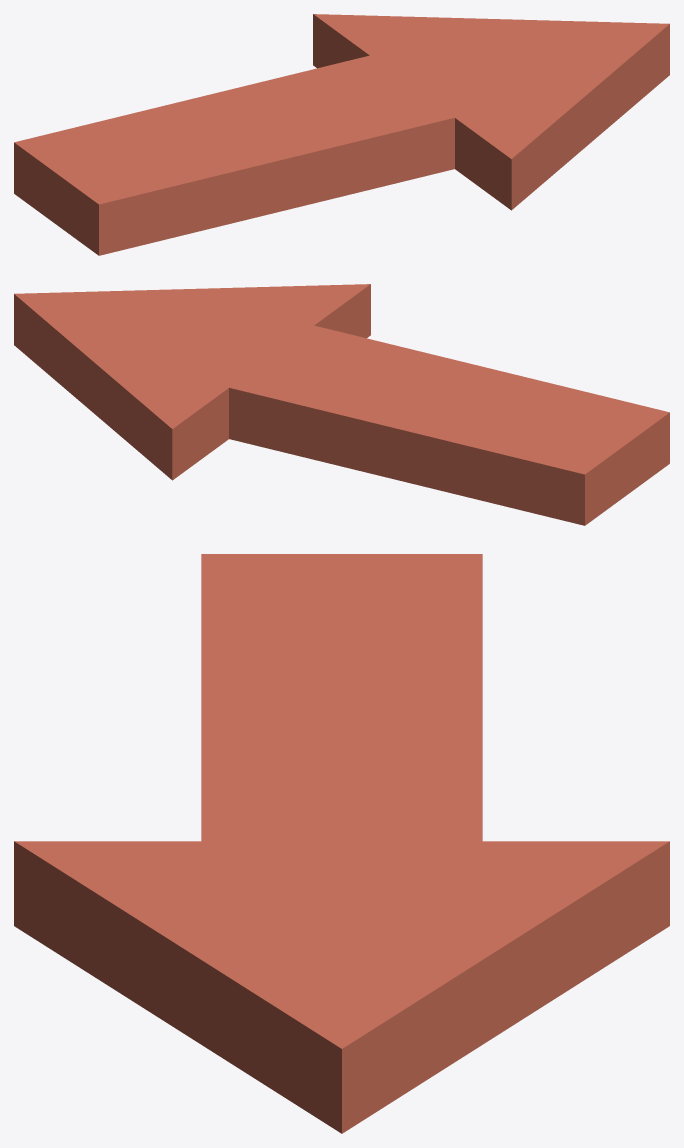
The model's file is tabletop-game-components-turn-arrow-ebae0e58__20876.glb.
The picture shows the model from 3 angles, top to bottom: view 1: azimuth 30°, elevation 25°; view 2: azimuth 150°, elevation 25°; view 3: azimuth 270°, elevation 25°; orthographic projection. The views are drawn at different scales.
Parts seen in each view (by area): view 1: turn-arrow; view 2: turn-arrow; view 3: turn-arrow.
Part boxes in pixels (x1,y1,x2,y2): turn-arrow: [14, 14, 669, 255]; turn-arrow: [14, 284, 669, 525]; turn-arrow: [14, 554, 669, 1133].
Bounding box in the file's own units: 0.05 × 0.004 × 0.028.
